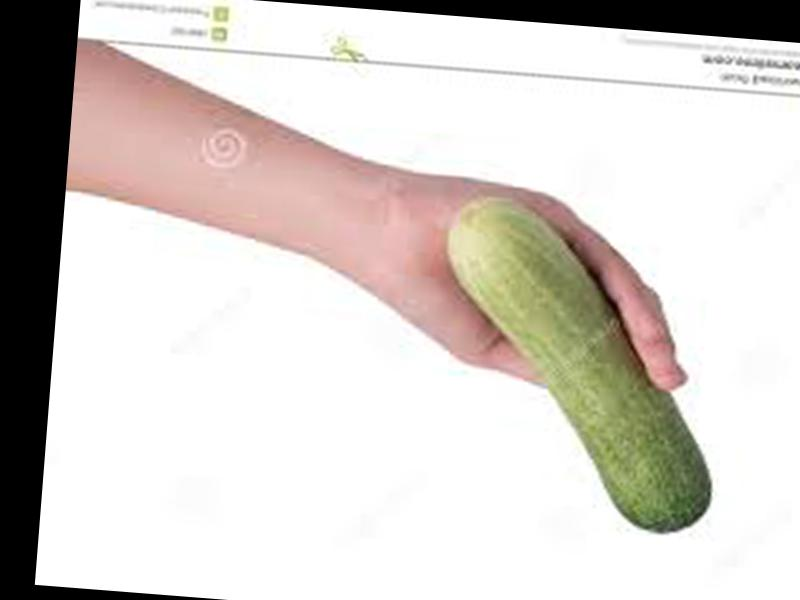Cucumber: (426, 196, 729, 533)
